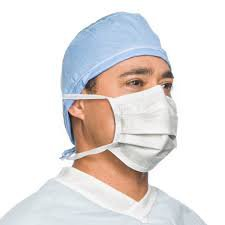mask: (49, 10, 187, 174)
